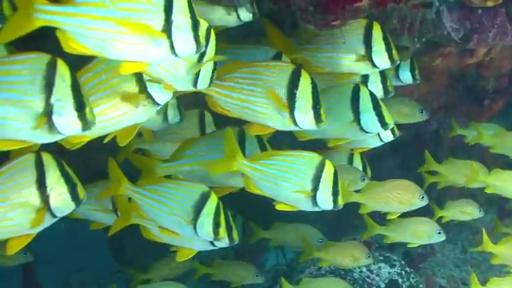Fish: (0, 0, 207, 62), (100, 159, 237, 243), (60, 58, 172, 148), (212, 137, 346, 211), (128, 127, 271, 195), (0, 52, 95, 150), (202, 61, 324, 134), (0, 152, 86, 255), (264, 19, 399, 74), (120, 25, 223, 91), (295, 84, 394, 141), (68, 180, 157, 235), (128, 109, 216, 159), (140, 225, 238, 261), (344, 180, 428, 219), (362, 215, 446, 247), (419, 151, 489, 188), (68, 180, 118, 229), (319, 147, 371, 191), (249, 222, 326, 251), (312, 71, 394, 98), (128, 253, 192, 286), (299, 240, 373, 268), (193, 260, 264, 287), (327, 126, 400, 152), (217, 42, 289, 67), (193, 0, 258, 27), (471, 228, 511, 266), (468, 124, 511, 158), (141, 97, 184, 131), (449, 120, 505, 143), (431, 199, 484, 223), (382, 96, 429, 123), (479, 168, 511, 199), (386, 57, 420, 86), (0, 242, 34, 267), (281, 277, 352, 287), (470, 272, 511, 287), (492, 219, 511, 235), (137, 281, 187, 287), (2, 0, 17, 19), (463, 0, 503, 7), (0, 44, 15, 56)
